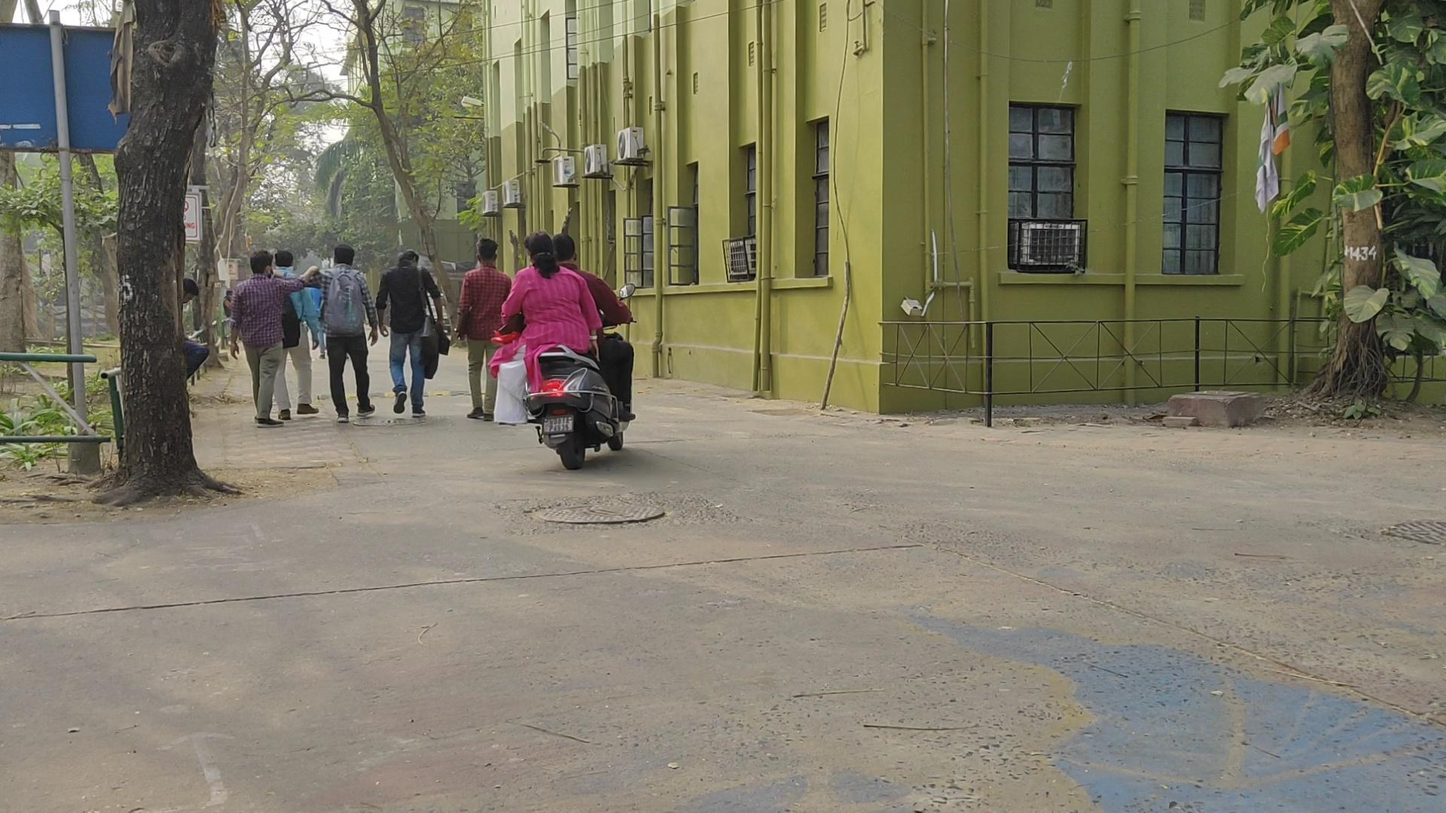bike: (494, 232, 632, 473)
